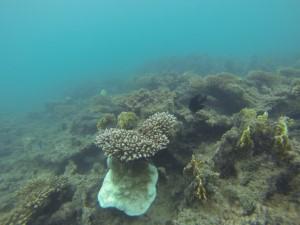bleached_corals: (93, 109, 186, 169), (0, 166, 81, 225), (96, 157, 159, 219)
